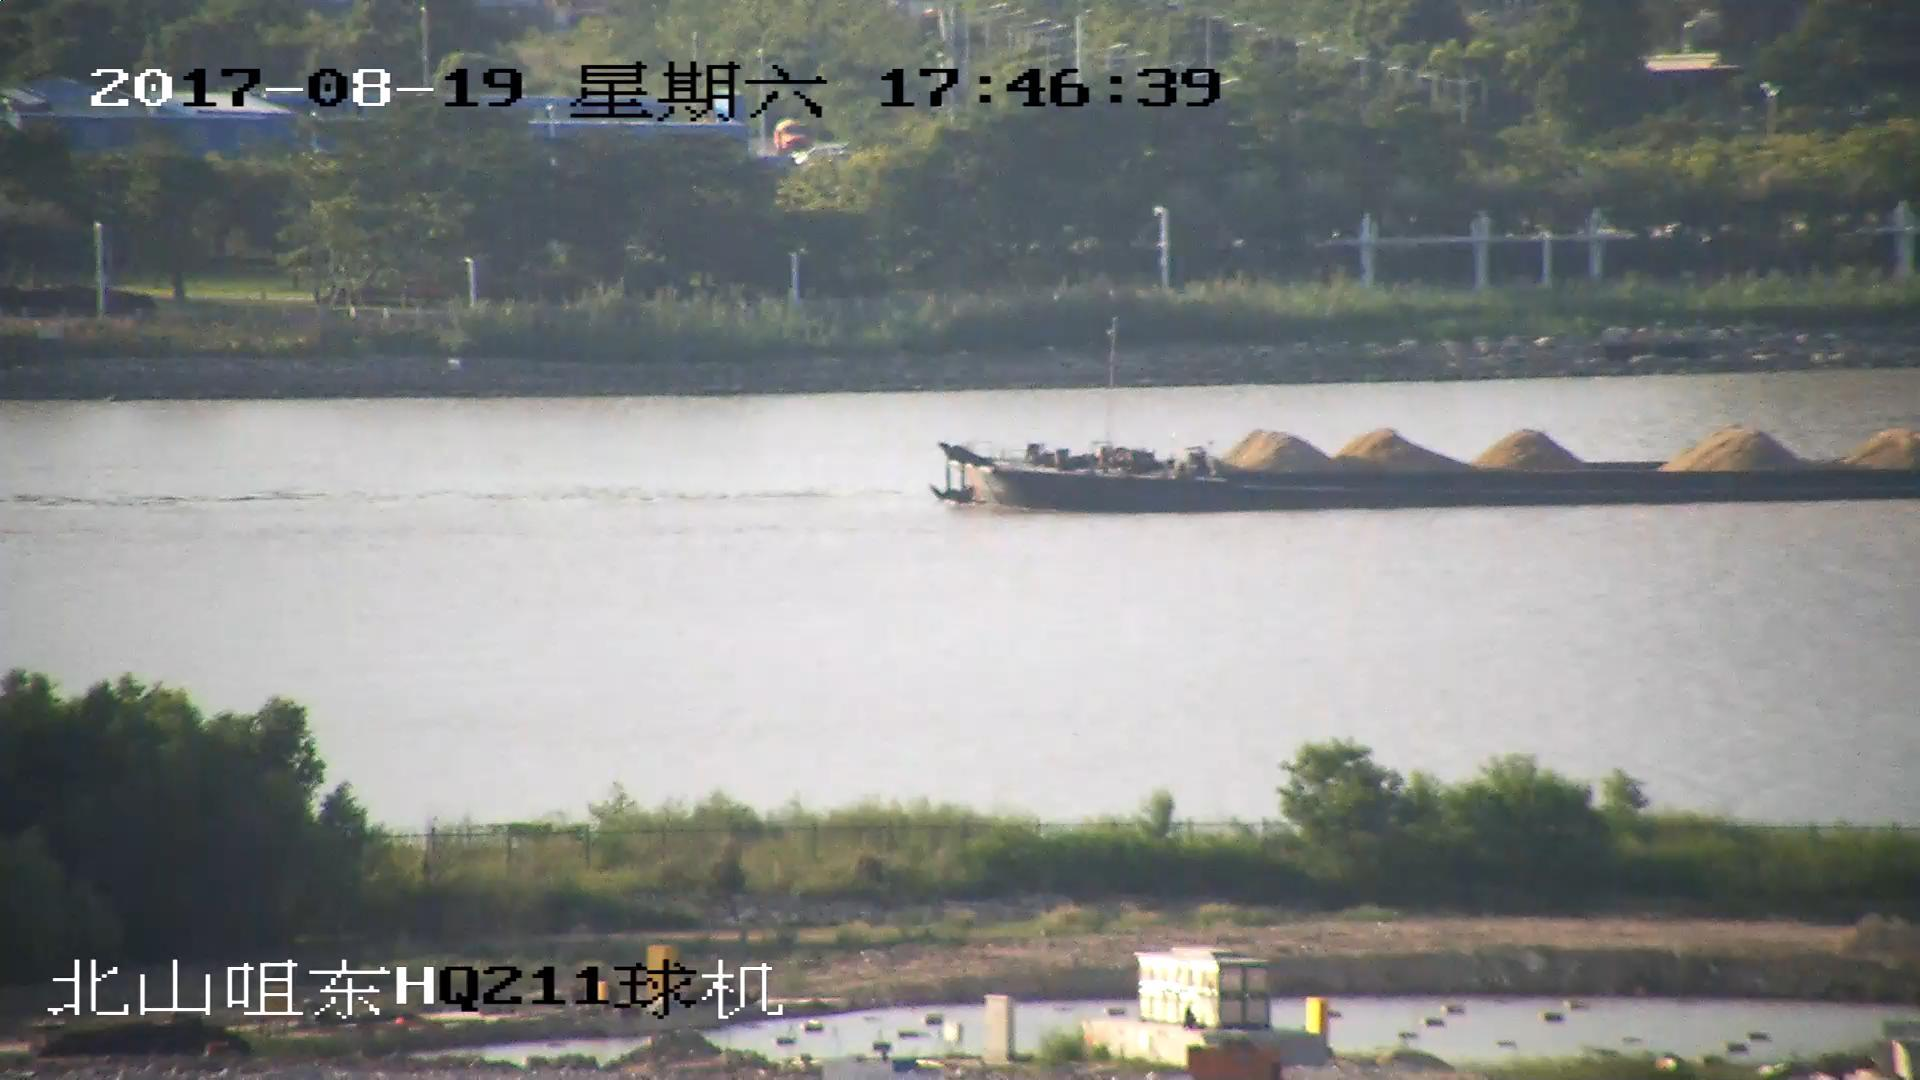Ship: (924, 417, 1920, 521)
